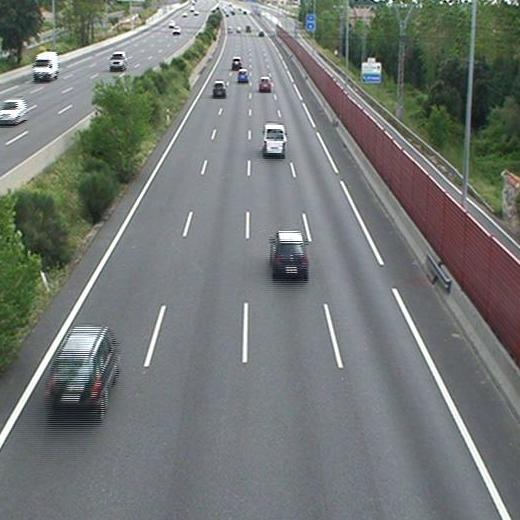car: (49, 327, 118, 403), (271, 231, 308, 275), (258, 77, 272, 91), (213, 82, 226, 97), (237, 69, 249, 82), (231, 58, 241, 67)
van: (262, 124, 287, 154)
